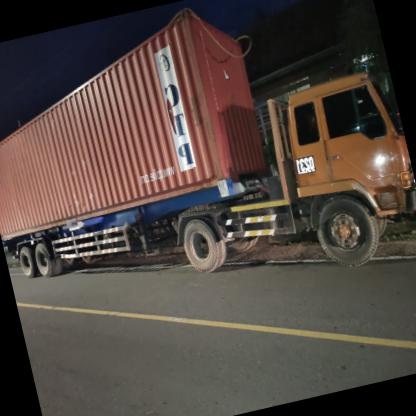truck: (269, 63, 416, 281)
